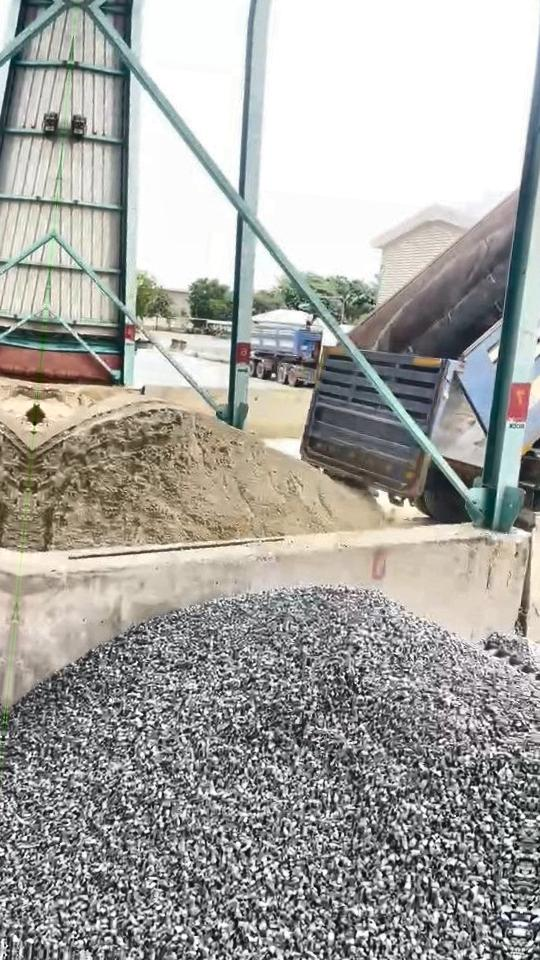gravel: (0, 588, 540, 960)
sand: (26, 392, 385, 550), (39, 383, 132, 420)
